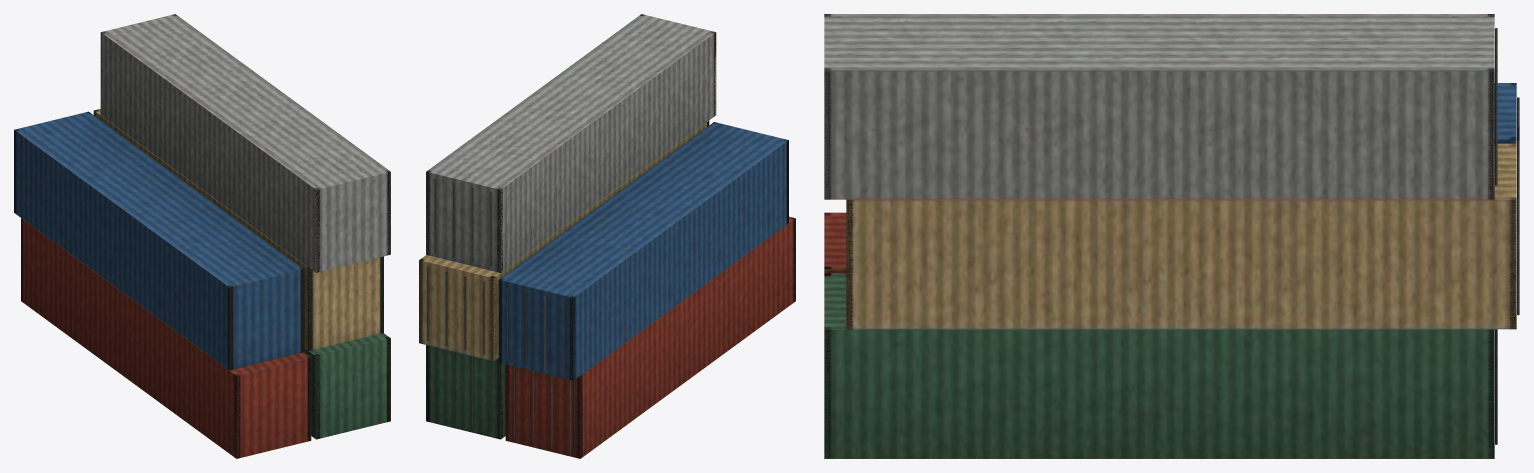
File: container_stack.glb
3 renders of one model, left to right at view 1: azimuth 30°, elevation 25°; view 2: azimuth 150°, elevation 25°; view 3: azimuth 270°, elevation 25°, orthographic. The views are drawn at different scales.
Visible parts, largest first — view 1: container_stack; view 2: container_stack; view 3: container_stack.
Part boxes in pixels (x1,y1,x2,y2): container_stack: (14,14,390,458); container_stack: (419,14,795,458); container_stack: (824,14,1519,458).
Bounding box in the file's own units: 5.04 × 7.79 × 12.64.
Materials: 1 (1 with a texture image).
